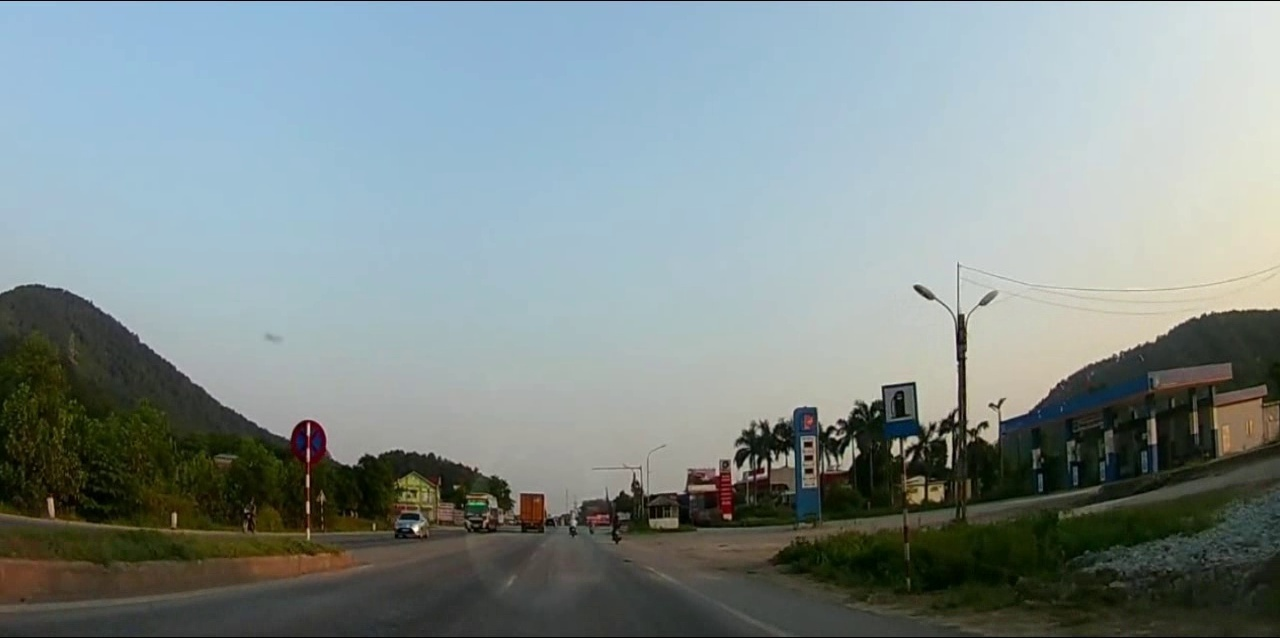Bien khac: (882, 380, 919, 438)
